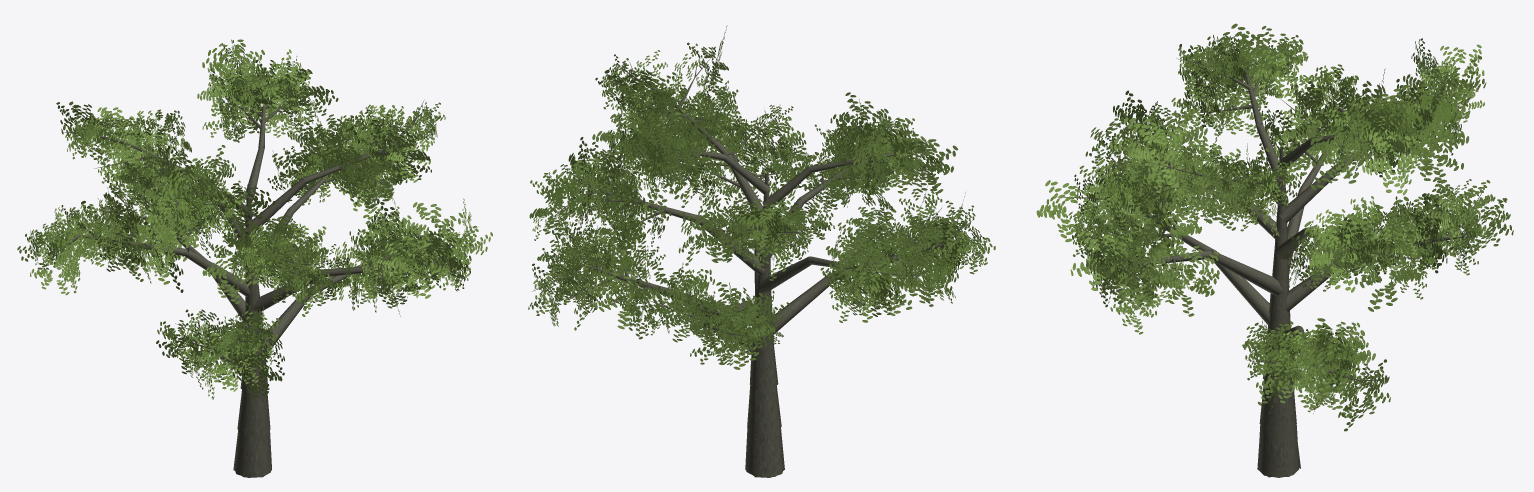
File: locust-18531.glb
3 views of the same model, side by side, from view 1: azimuth 30°, elevation 25°; view 2: azimuth 150°, elevation 25°; view 3: azimuth 270°, elevation 25° (orthographic). The views are drawn at different scales.
Visible parts, largest first — view 1: near_leaves, far_leaves, near_bark, far_bark, near_winter; view 2: near_leaves, far_leaves, near_bark, far_bark, near_winter; view 3: near_leaves, far_leaves, near_bark, far_bark, near_winter.
Part boxes in pixels (left/top/right/bottom): near_leaves: left=17, top=39, right=492, bottom=399; far_leaves: left=30, top=39, right=472, bottom=398; near_bark: left=57, top=91, right=455, bottom=477; far_bark: left=57, top=91, right=452, bottom=477; near_winter: left=46, top=68, right=478, bottom=370; near_leaves: left=528, top=36, right=995, bottom=364; far_leaves: left=529, top=25, right=976, bottom=369; near_bark: left=553, top=77, right=956, bottom=477; far_bark: left=550, top=78, right=942, bottom=476; near_winter: left=534, top=58, right=972, bottom=336; near_leaves: left=1043, top=26, right=1513, bottom=421; far_leaves: left=1036, top=23, right=1510, bottom=431; near_bark: left=1095, top=66, right=1468, bottom=477; far_bark: left=1095, top=68, right=1467, bottom=477; near_winter: left=1064, top=50, right=1483, bottom=386.
Size of the model in its own units: 11.25 by 9.56 by 10.08.
2 materials, 2 textured.
